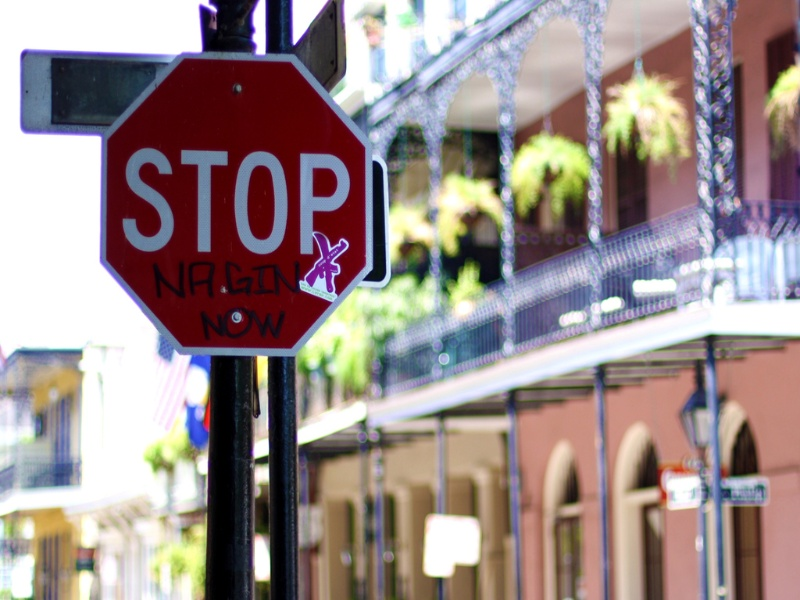stop: (104, 49, 386, 350)
